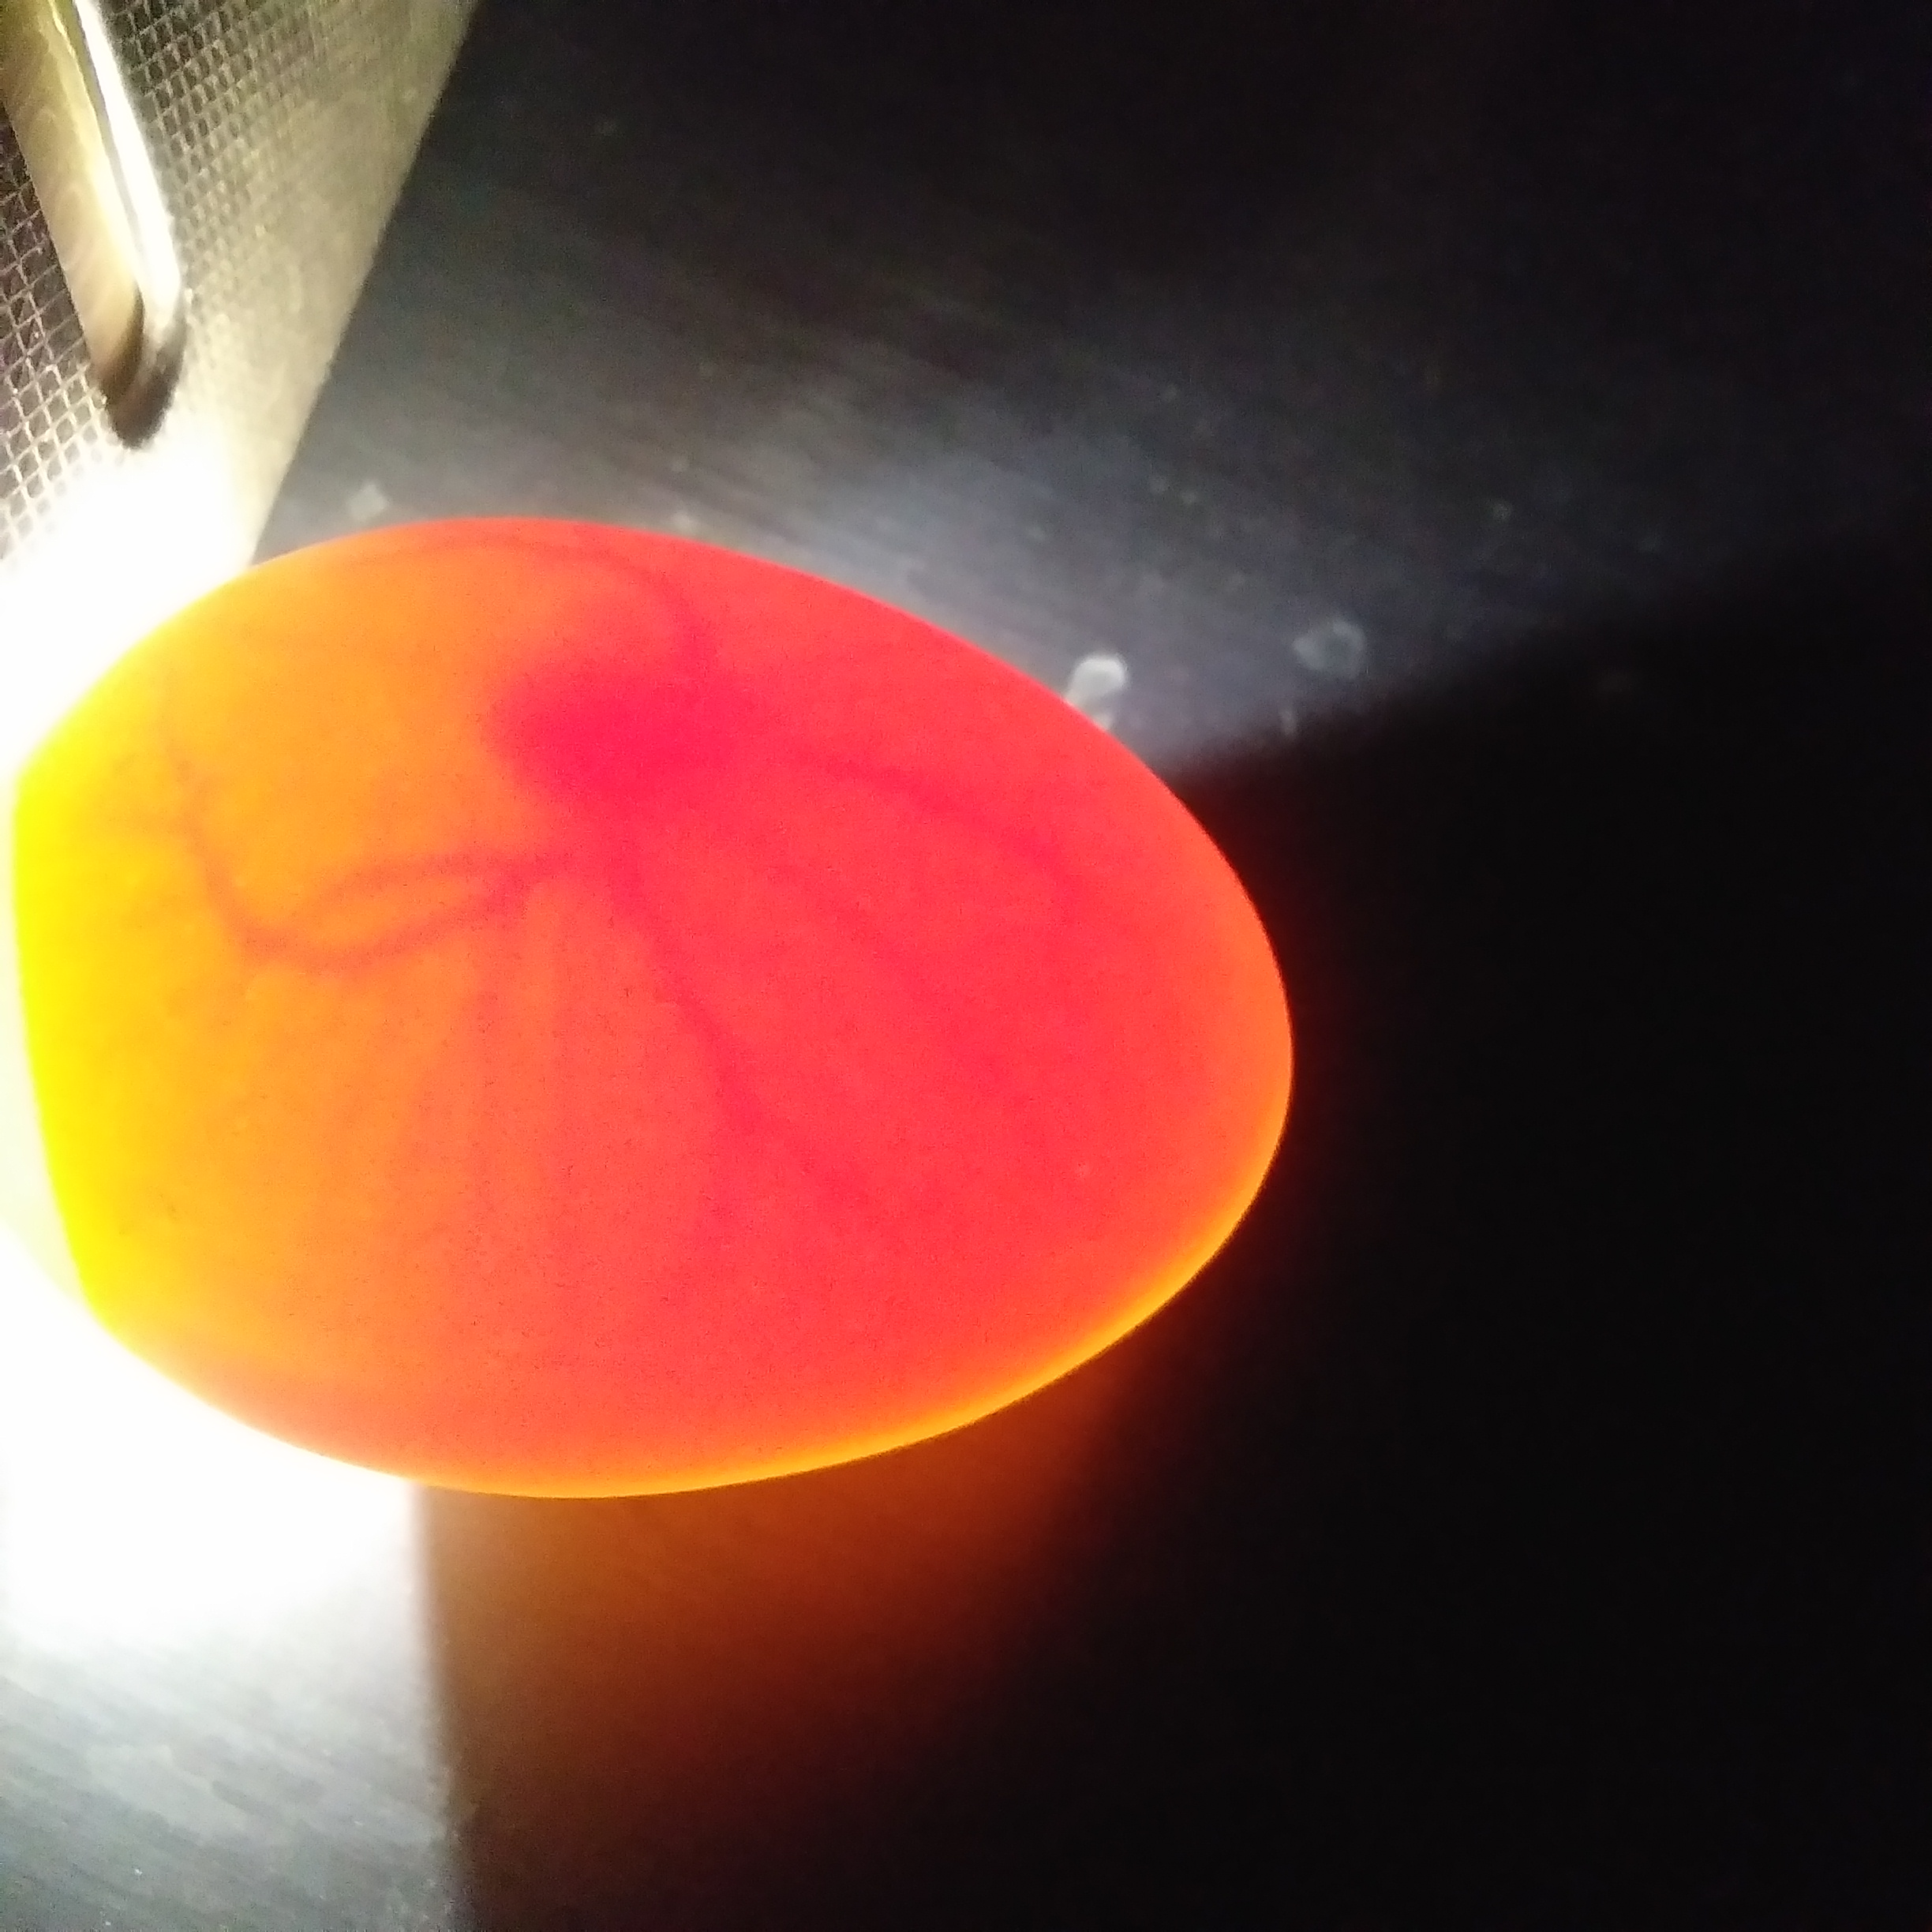bloodcell: (163, 858, 890, 1247)
embryo: (403, 660, 768, 828)
